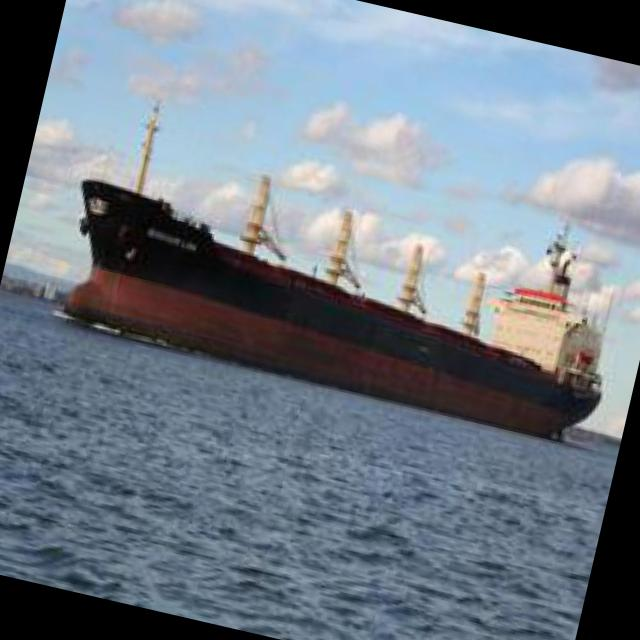boat: (11, 130, 637, 466)
